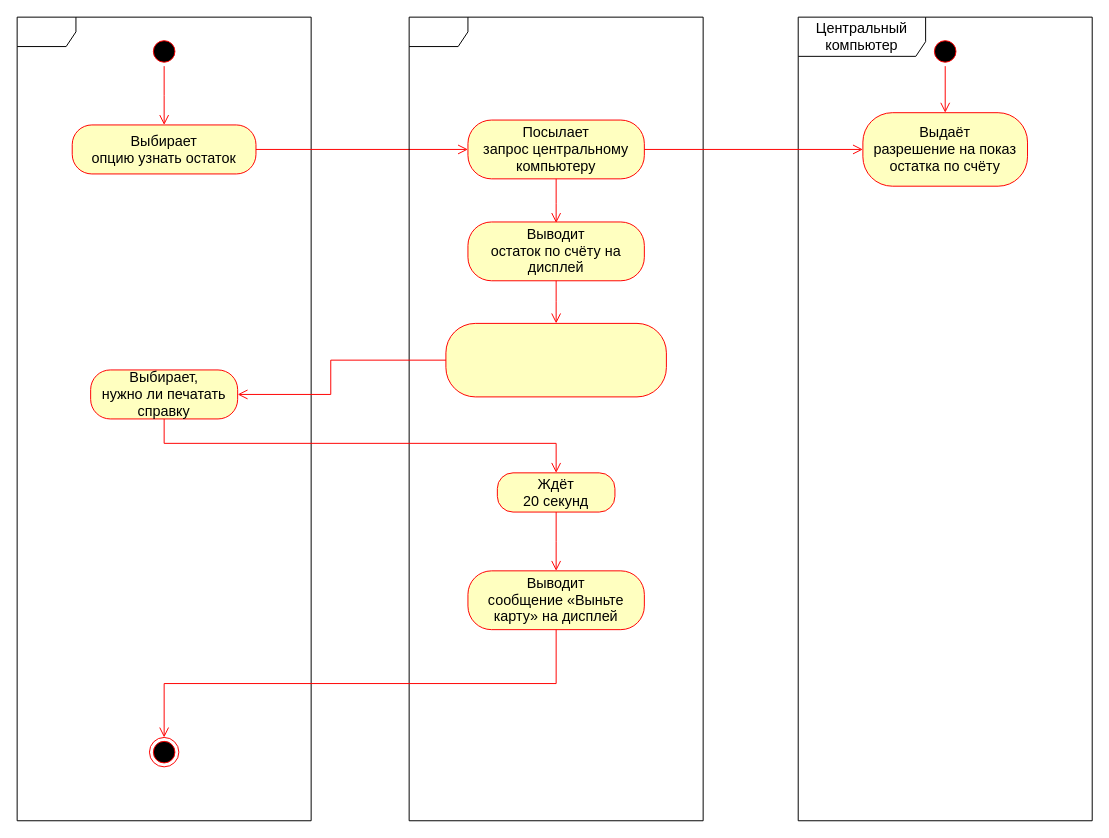
The diagram is 1109 pixels wide and 838 high, and some of its shapes have lost their labels. The box of each missing label's shape, as (x1, y1, x2, y2) in pixels:
Выводит на дисплей вопрос, нужно ли печатать справку: (445, 322, 666, 397)
Клиент: (16, 16, 311, 821)
Система: (408, 16, 703, 821)
